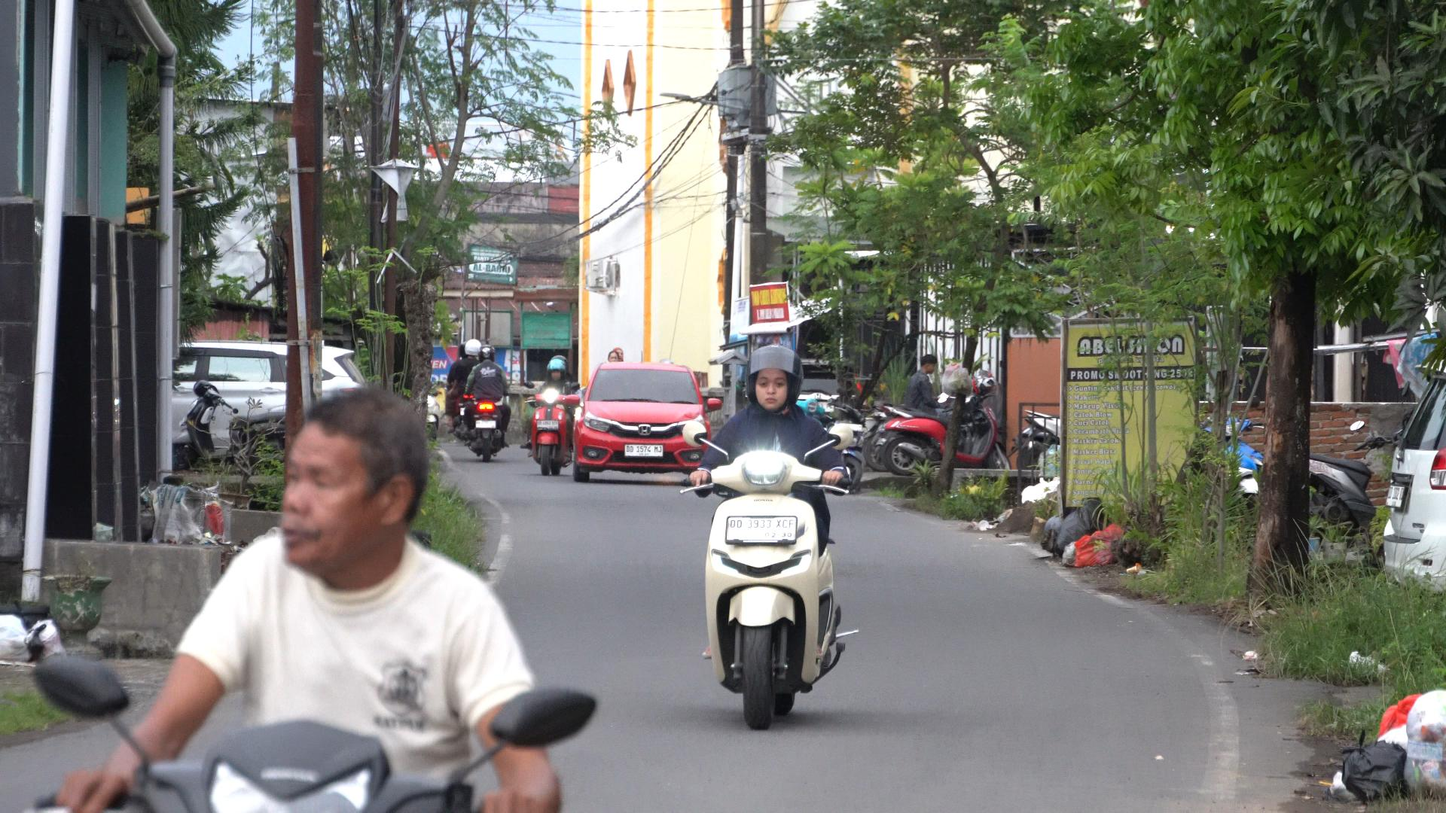number-plate: (721, 512, 799, 548)
